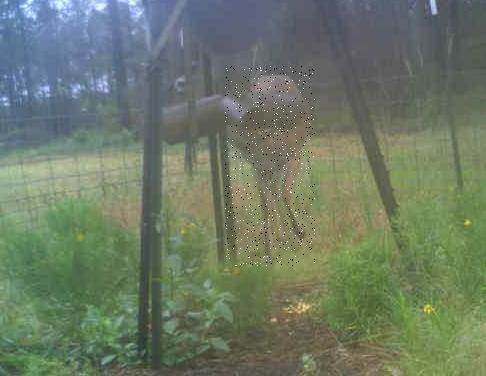Deer: (225, 67, 315, 267)
